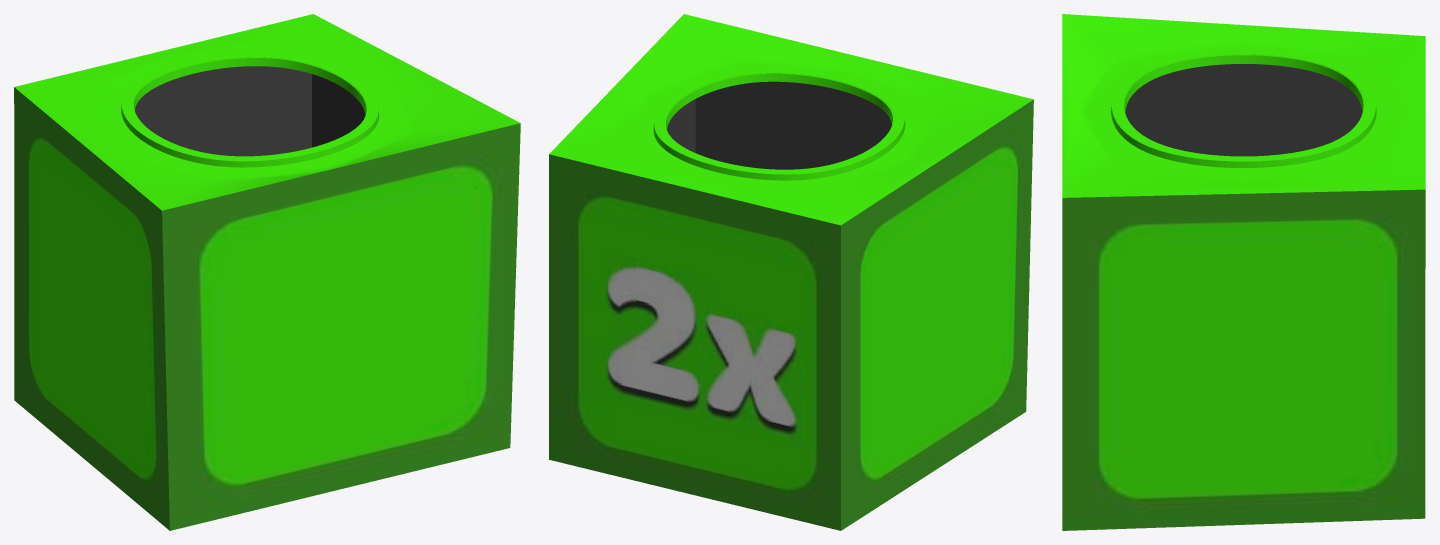
3 views of the same model, side by side, from view 1: azimuth 30°, elevation 25°; view 2: azimuth 150°, elevation 25°; view 3: azimuth 270°, elevation 25° (orthographic). The views are drawn at different scales.
Parts seen in each view (by area): view 1: 2x; view 2: 2x; view 3: 2x.
Boxes of the visible parts, x1,y1,x2,y2 form: 2x: (14, 14, 520, 530); 2x: (549, 14, 1033, 530); 2x: (1062, 14, 1425, 530).
Size of the model in its own units: 121 by 104 by 101.
